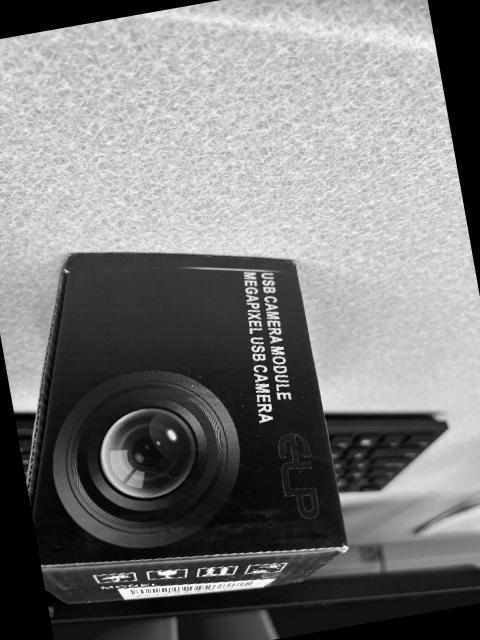CameraBox2: (24, 248, 348, 621)
